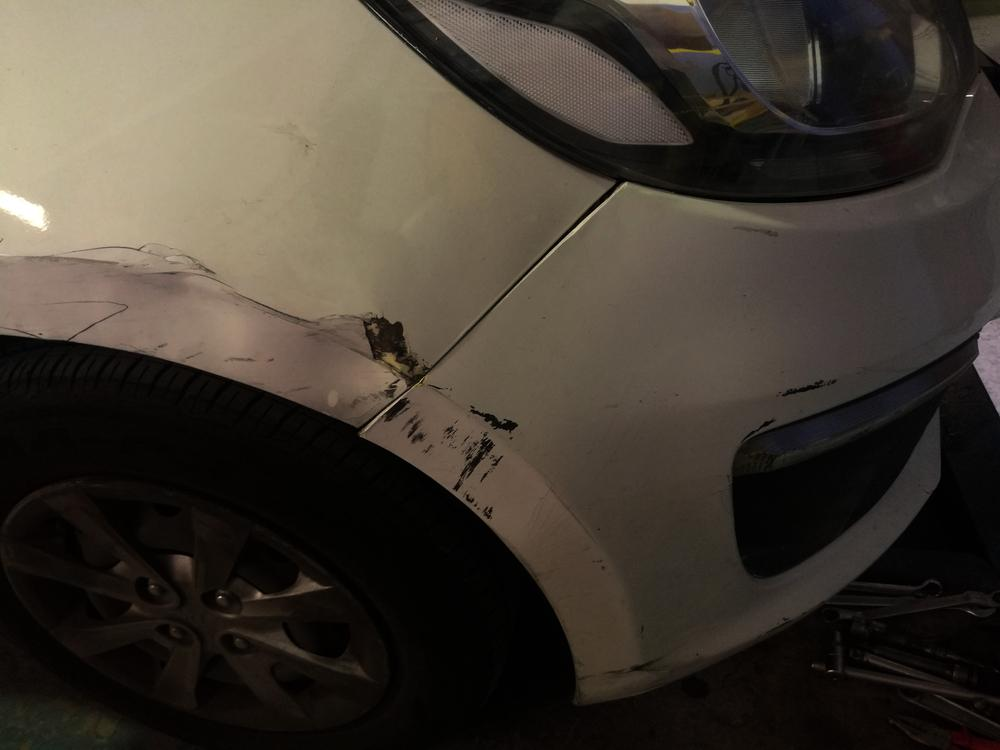dent: (65, 246, 401, 417)
scratch: (378, 372, 526, 525), (742, 373, 836, 438), (361, 311, 426, 379)
